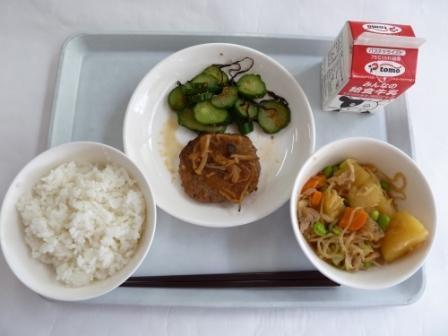Meat: (173, 134, 264, 205)
Milk: (315, 16, 423, 117)
Rice: (0, 138, 155, 296)
Salad: (166, 59, 295, 135)
vegetable based cooked food: (295, 141, 427, 277)
